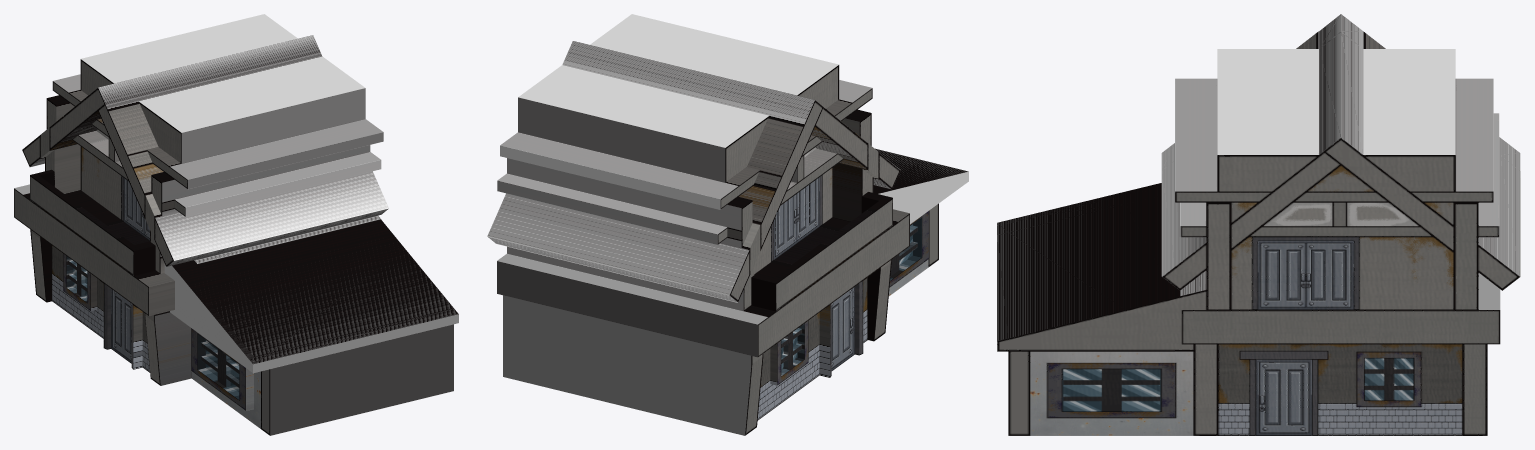
The model's file is House_1_B.fbx.
3 renders of one model, left to right at view 1: azimuth 30°, elevation 25°; view 2: azimuth 150°, elevation 25°; view 3: azimuth 270°, elevation 25°, orthographic. The views are drawn at different scales.
Visible parts, largest first — view 1: Plane; view 2: Plane; view 3: Plane.
Part boxes in pixels (left/top/right/bottom): Plane: left=14, top=14, right=458, bottom=435; Plane: left=487, top=14, right=968, bottom=435; Plane: left=997, top=14, right=1520, bottom=435.
Size of the model in its own units: 875 by 912 by 1452.
